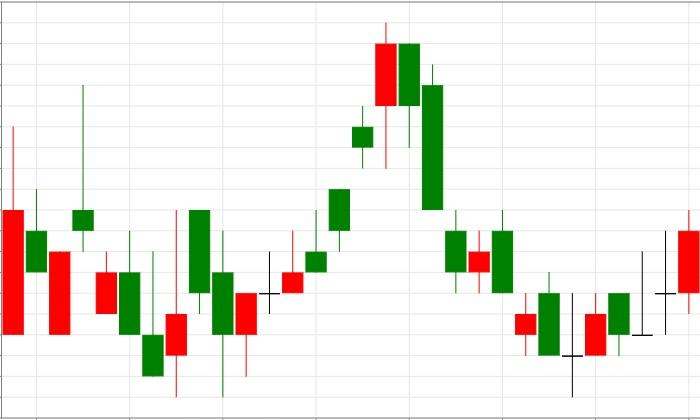bullish_engulfing_rise: (375, 22, 560, 356)
inverse_hammer_rise: (71, 84, 165, 377)
morning_star_rise: (375, 22, 607, 398)
shooting_star_fall: (211, 210, 327, 397)
